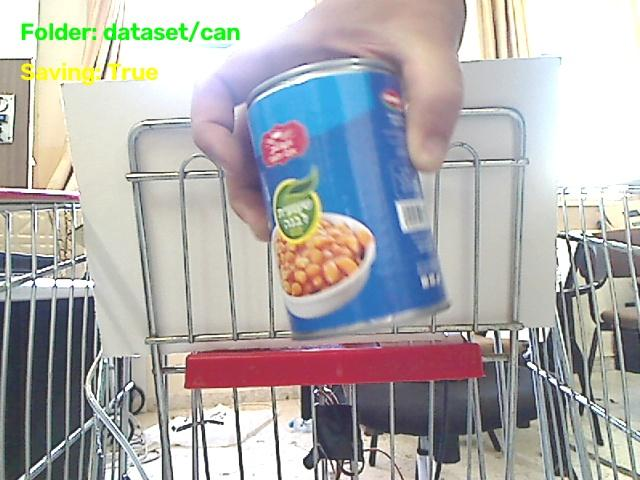can: (248, 59, 447, 338)
